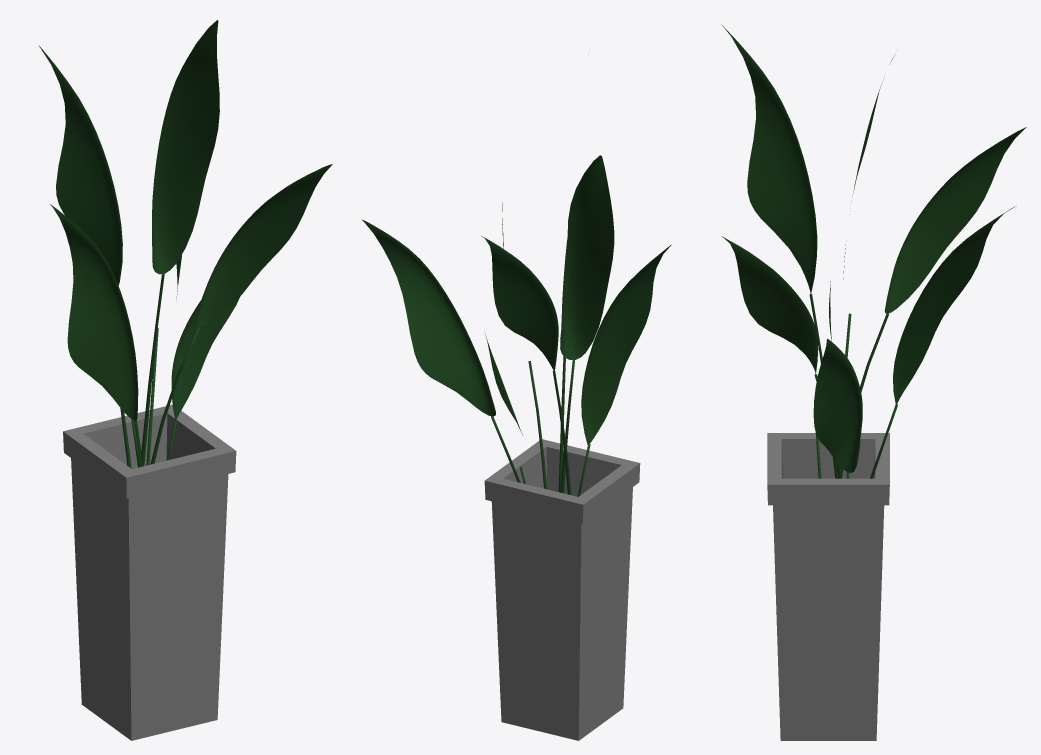
3 renders of one model, left to right at view 1: azimuth 30°, elevation 25°; view 2: azimuth 150°, elevation 25°; view 3: azimuth 270°, elevation 25°, orthographic. The views are drawn at different scales.
Parts seen in each view (by area): view 1: 09_all_rooms_12, 08_plants_01; view 2: 09_all_rooms_12, 08_plants_01; view 3: 09_all_rooms_12, 08_plants_01.
Part boxes in pixels (box(x1,y1,x2,y2)): 09_all_rooms_12: box(63, 404, 236, 740); 08_plants_01: box(38, 20, 332, 468); 09_all_rooms_12: box(484, 439, 640, 740); 08_plants_01: box(361, 155, 671, 496); 09_all_rooms_12: box(767, 433, 889, 740); 08_plants_01: box(721, 24, 1026, 478).
Size of the model in its own units: 677 by 1927 by 796.
